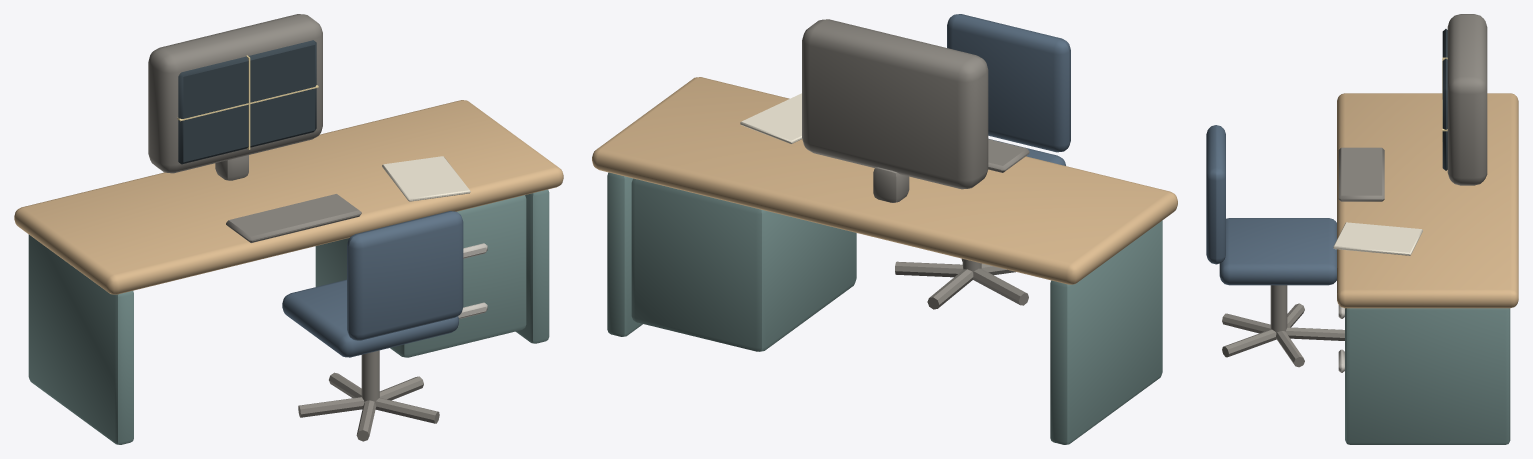
The model's file is guard_desk.glb.
The picture shows the model from 3 angles, left to right: view 1: azimuth 30°, elevation 25°; view 2: azimuth 150°, elevation 25°; view 3: azimuth 270°, elevation 25°; orthographic projection. The views are drawn at different scales.
Visible parts, largest first — view 1: wood, paint, steel_dark, vinyl, screen, paper, light, steel; view 2: paint, wood, steel_dark, vinyl, paper; view 3: wood, paint, steel_dark, vinyl, paper, screen.
Boxes of the visible parts, box(x1,y1,x2,y2) form: wood: box(14, 100, 563, 294); paint: box(28, 189, 549, 444); steel_dark: box(148, 14, 439, 441); vinyl: box(282, 211, 463, 357); screen: box(178, 40, 316, 164); paper: box(382, 156, 470, 201); light: box(177, 55, 318, 149); steel: box(458, 243, 487, 318); paint: box(607, 172, 1162, 444); wood: box(592, 77, 1177, 284); steel_dark: box(802, 19, 1029, 309); vinyl: box(947, 14, 1070, 165); paper: box(740, 93, 802, 143); wood: box(1337, 93, 1518, 308); paint: box(1345, 308, 1510, 444); steel_dark: box(1222, 14, 1487, 367); vinyl: box(1206, 125, 1336, 285); paper: box(1333, 222, 1422, 255); screen: box(1442, 29, 1447, 170).
Size of the model in its own units: 1.45 by 0.97 by 0.945.
